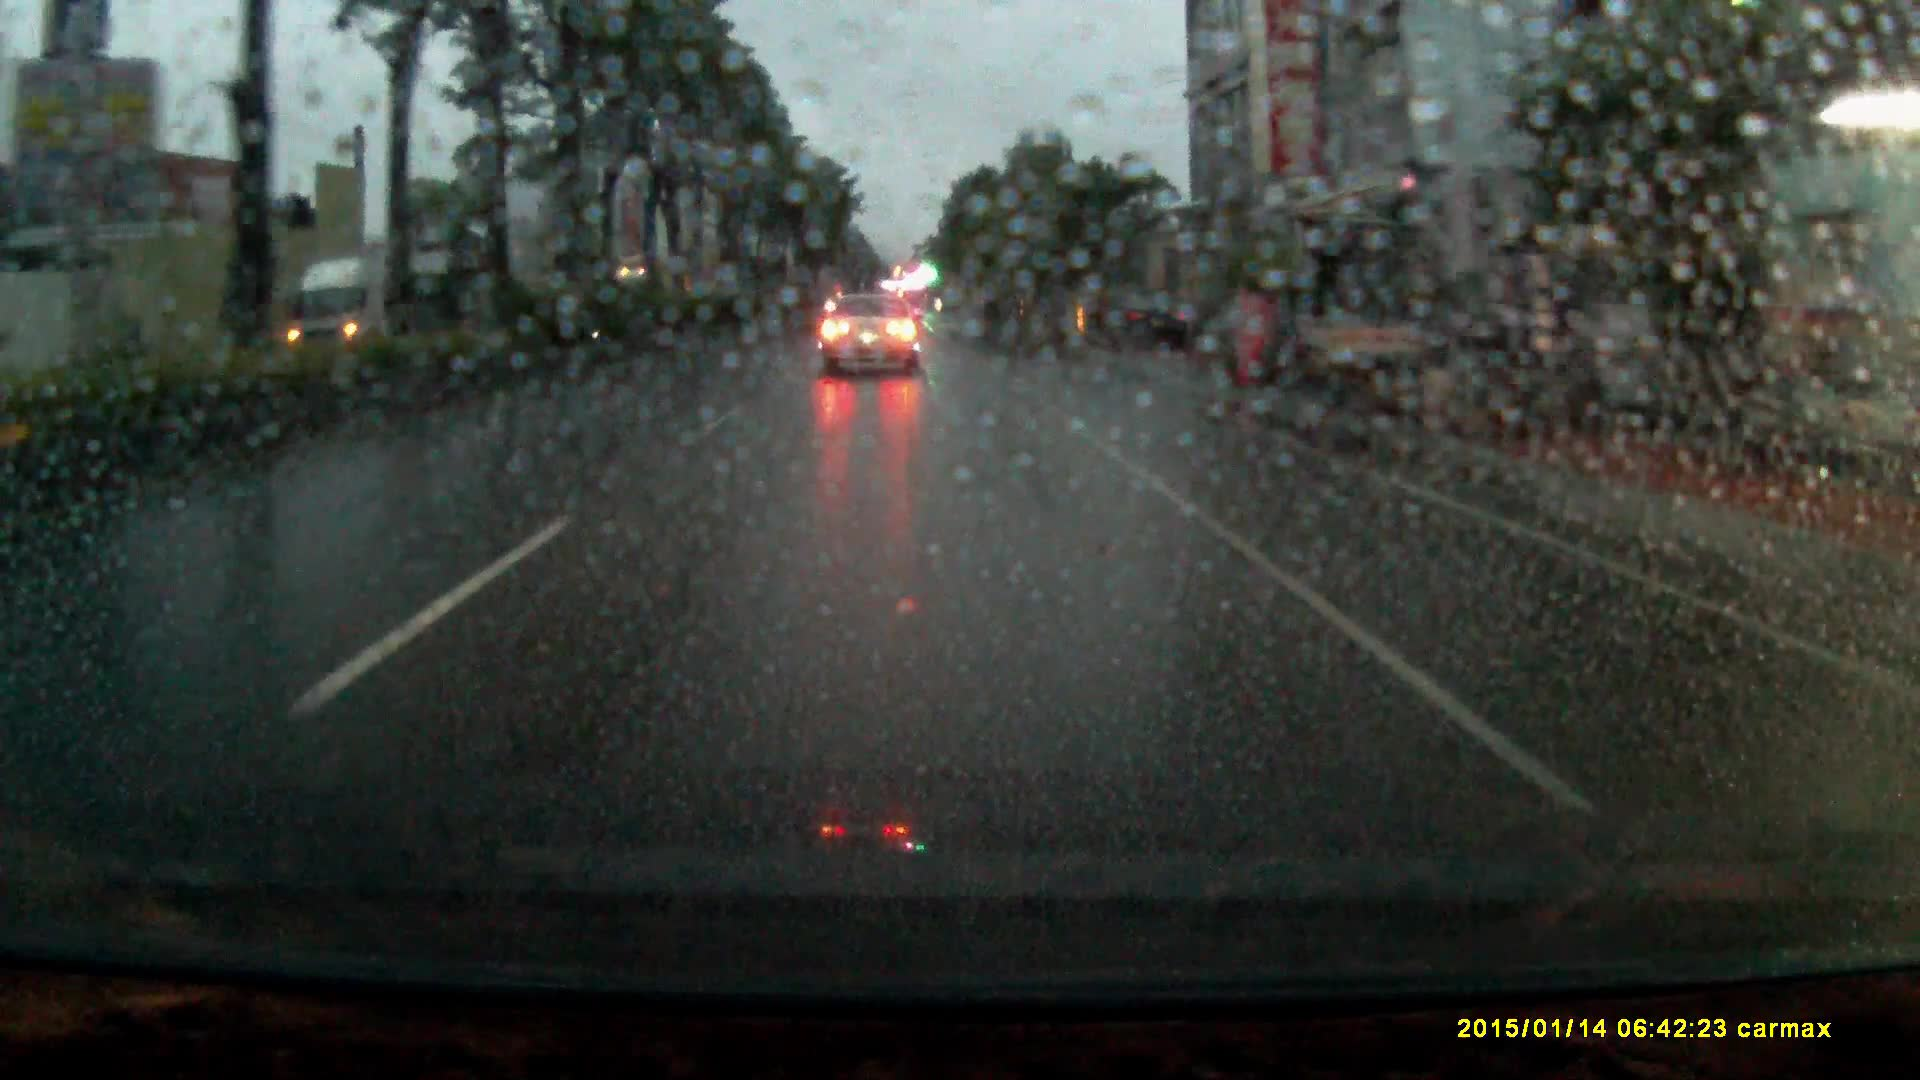vehicle: (282, 245, 454, 340), (822, 291, 922, 378), (1105, 294, 1191, 349)
